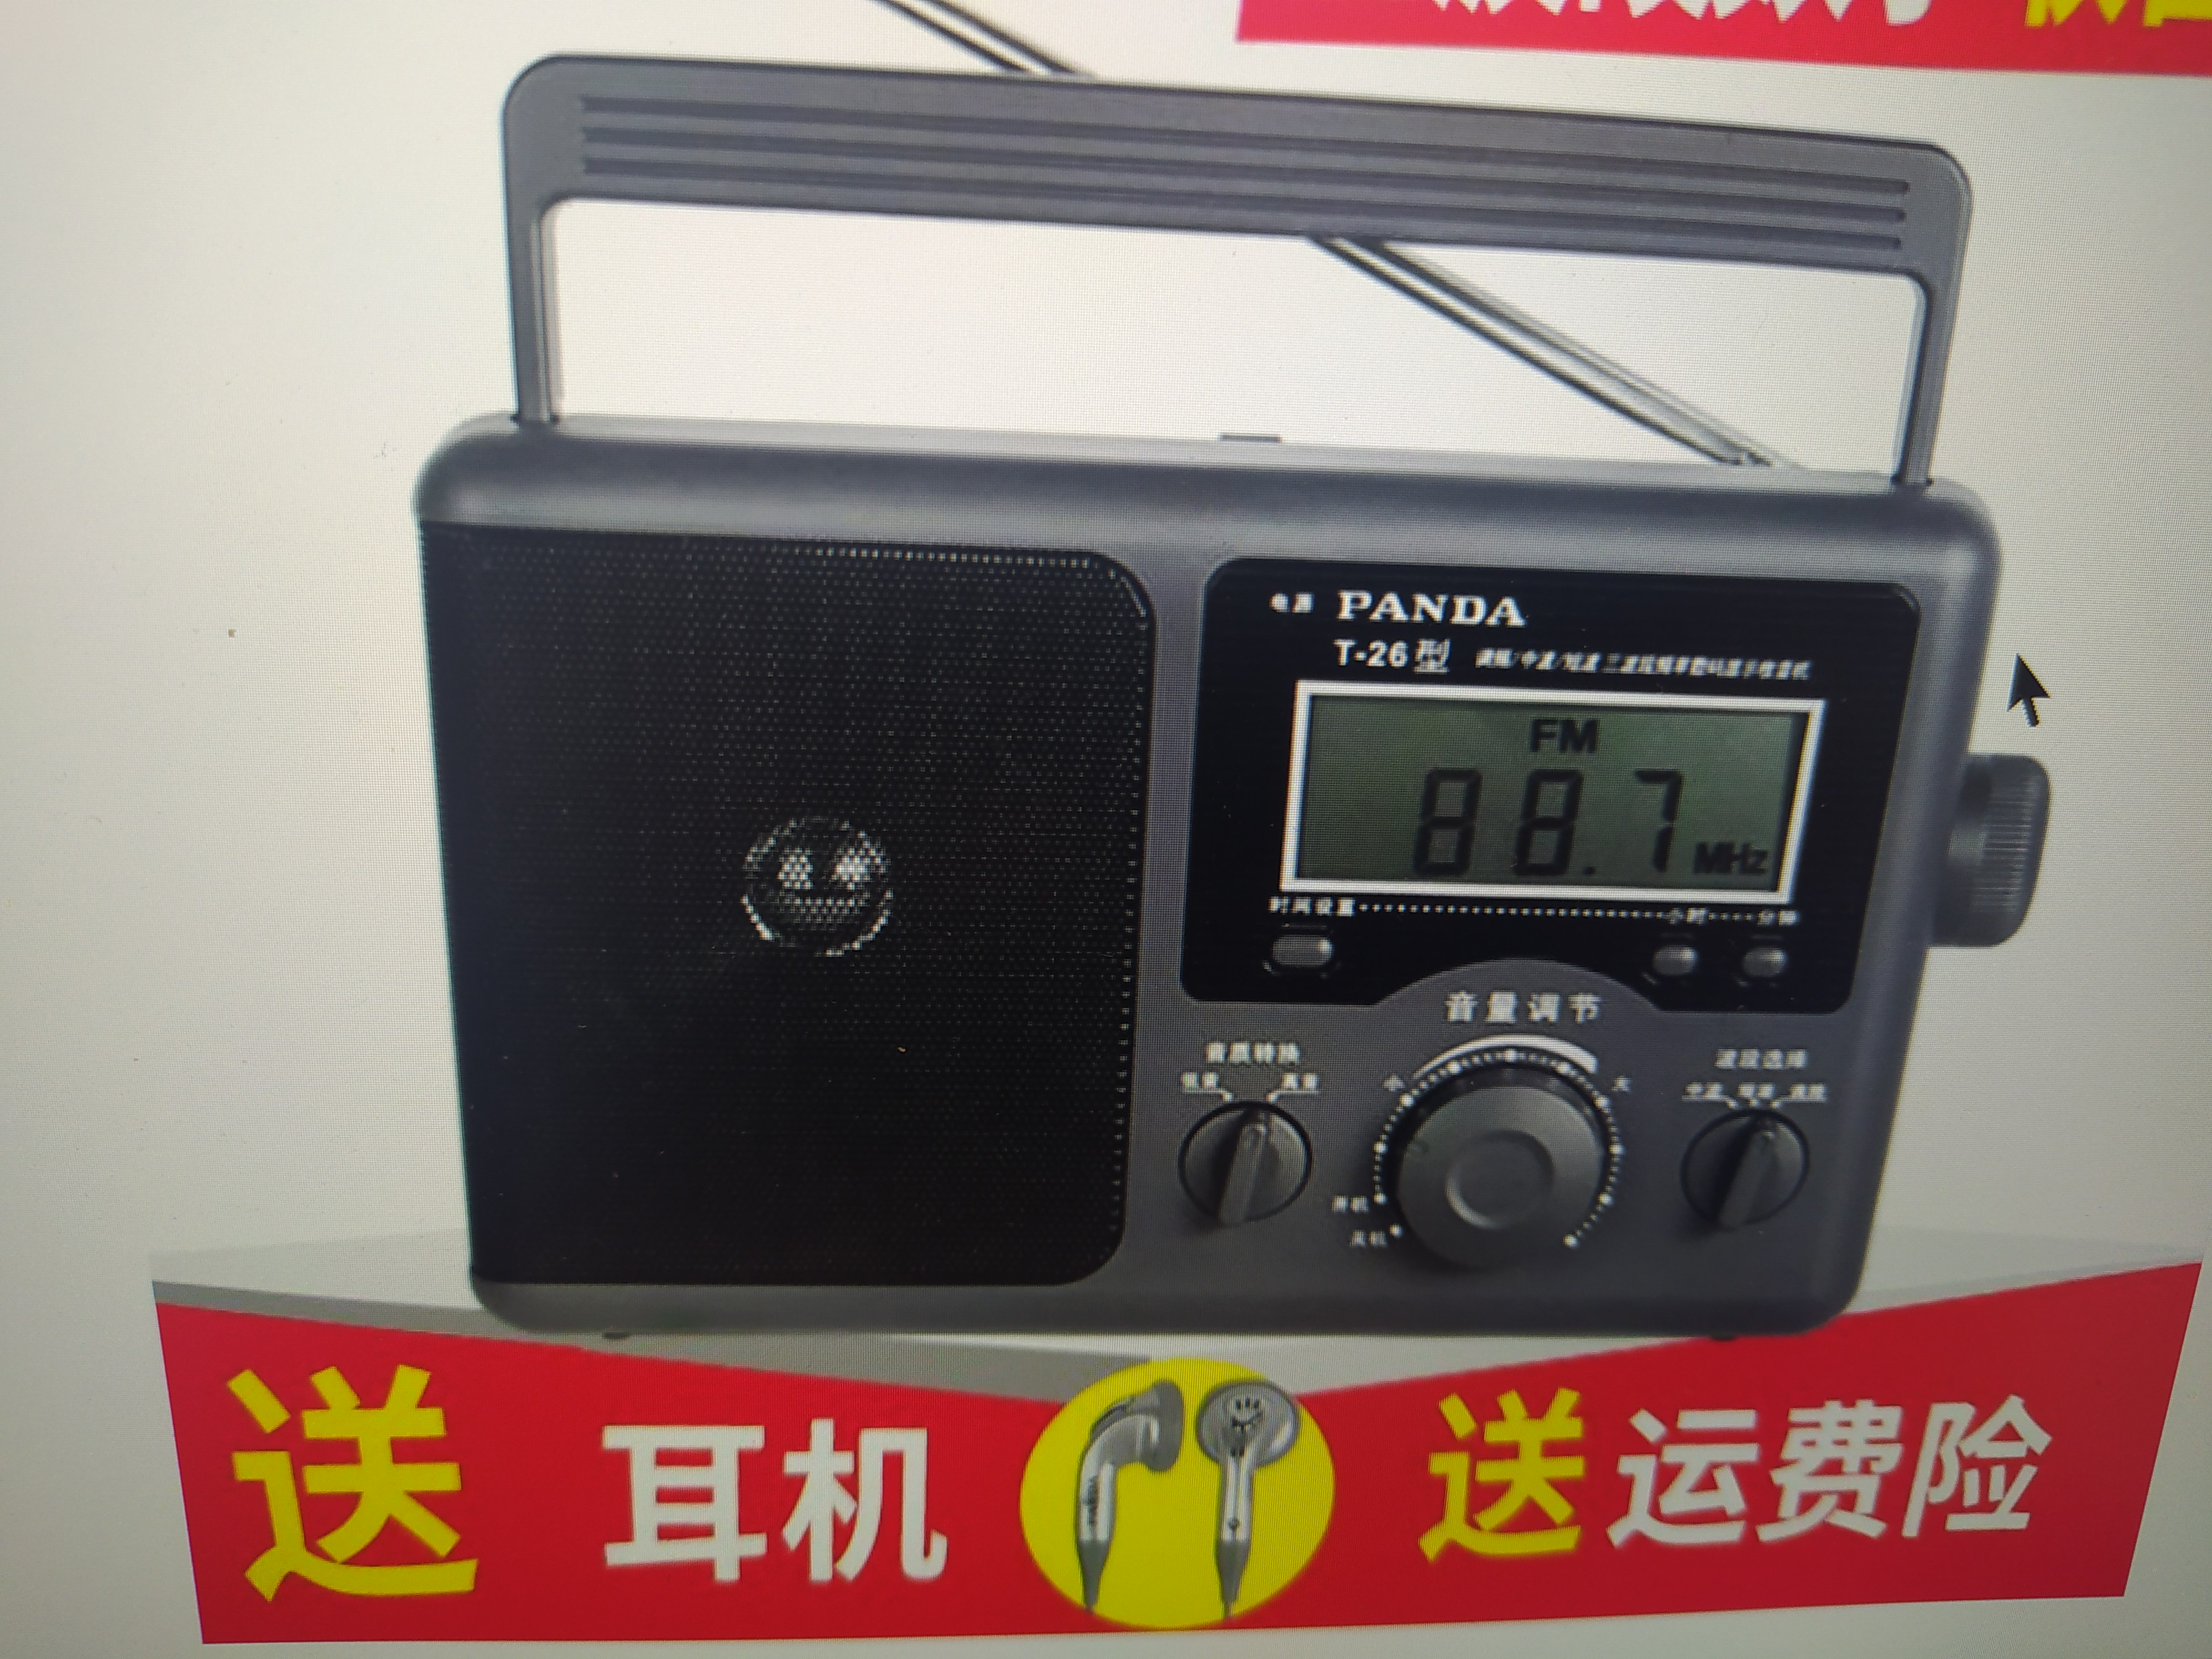.: (1585, 779, 1601, 882)
2: (1372, 641, 1386, 669)
6: (1393, 641, 1407, 678)
7: (1629, 762, 1686, 877)
8: (1414, 762, 1484, 885)
